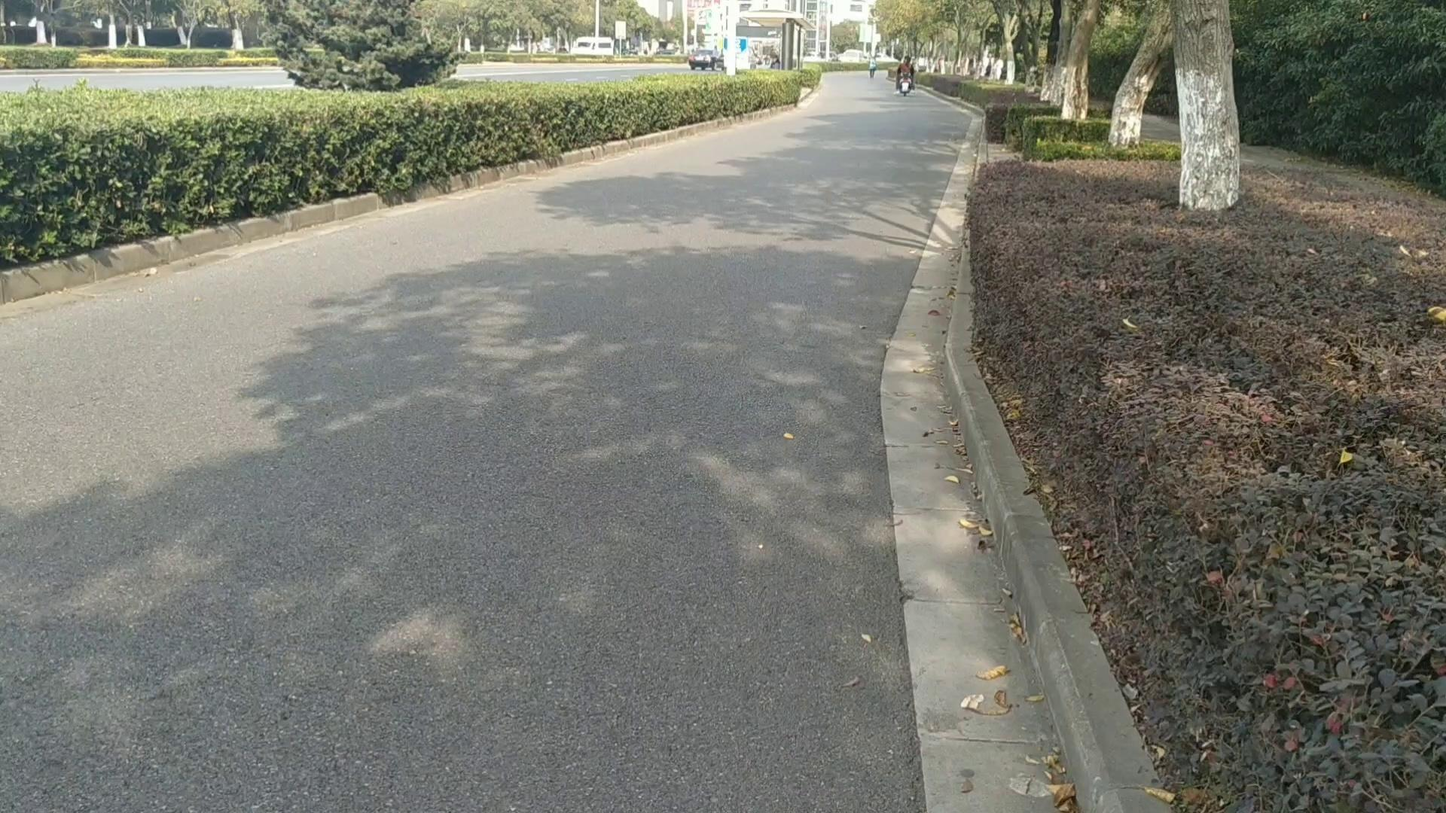car: (572, 35, 615, 54), (687, 48, 722, 70)
